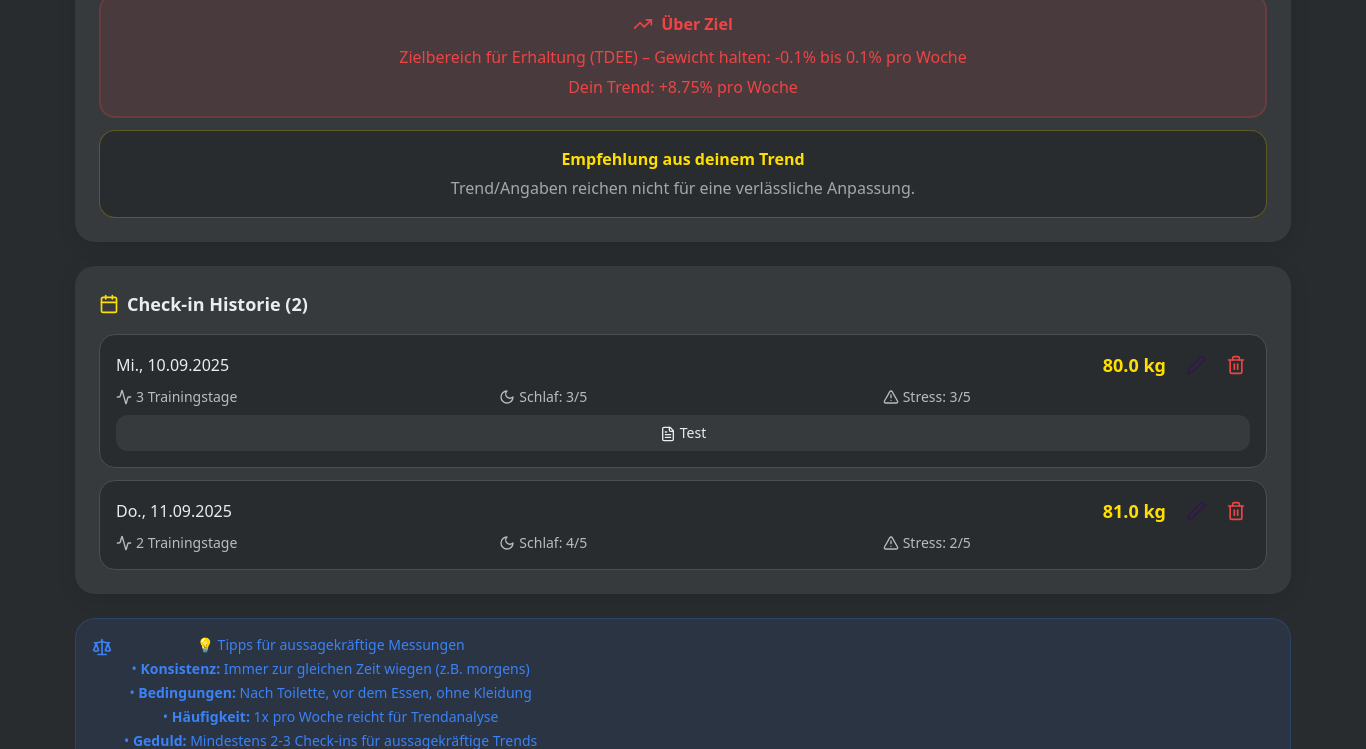
Test: CheckinPage UI › Löschen entfernt Eintrag
(page scrolled)
// Delete-Button für ersten Eintrag klicken
Click the button titled "Löschen" in the row of "80.0" at (1236, 365), box x1=1222 y1=351 x2=1250 y2=379
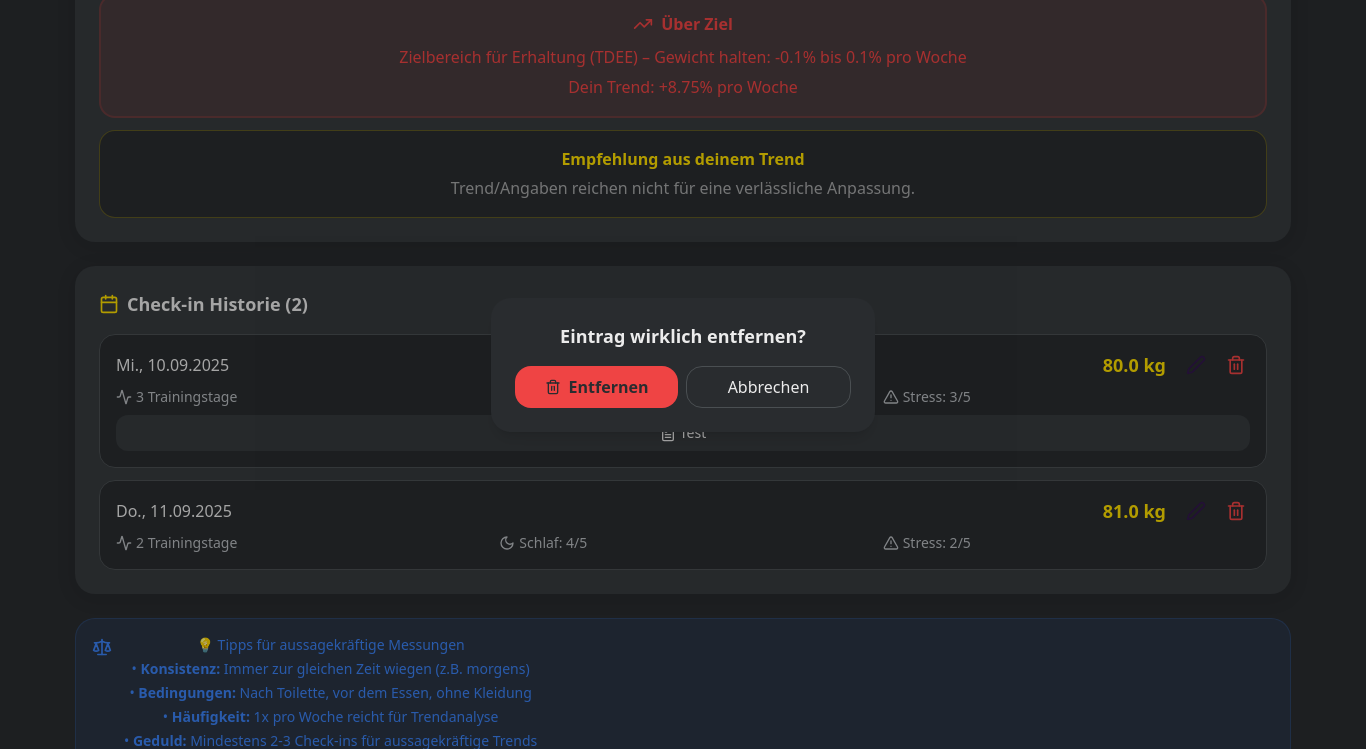
Now the heading "Eintrag wirklich entfernen?" is shown, box x1=560 y1=324 x2=806 y2=348
// Entfernen klicken
Click the button "Entfernen" at (596, 387), box x1=515 y1=366 x2=678 y2=408
(page scrolled)
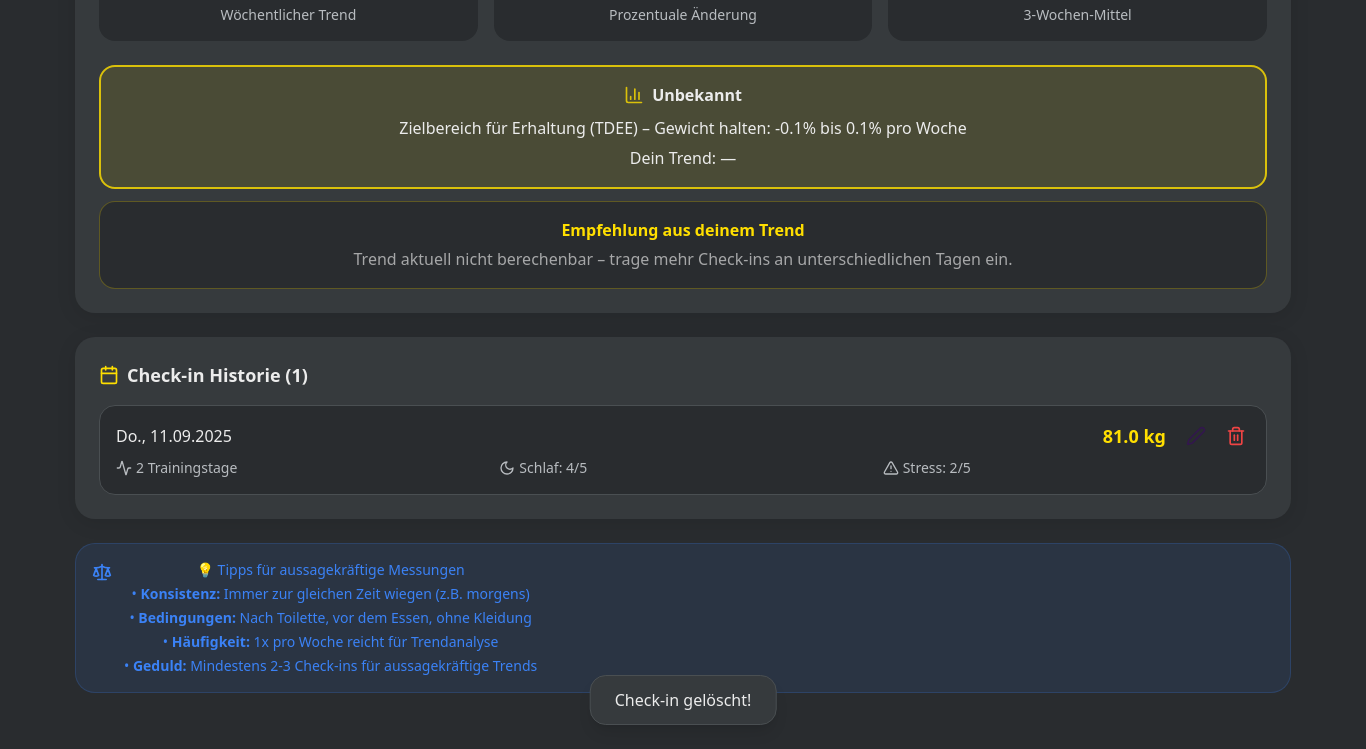
Now the text "Check-in gelöscht!" is shown, box x1=590 y1=675 x2=776 y2=725
Now the text "80.0 kg" is gone
